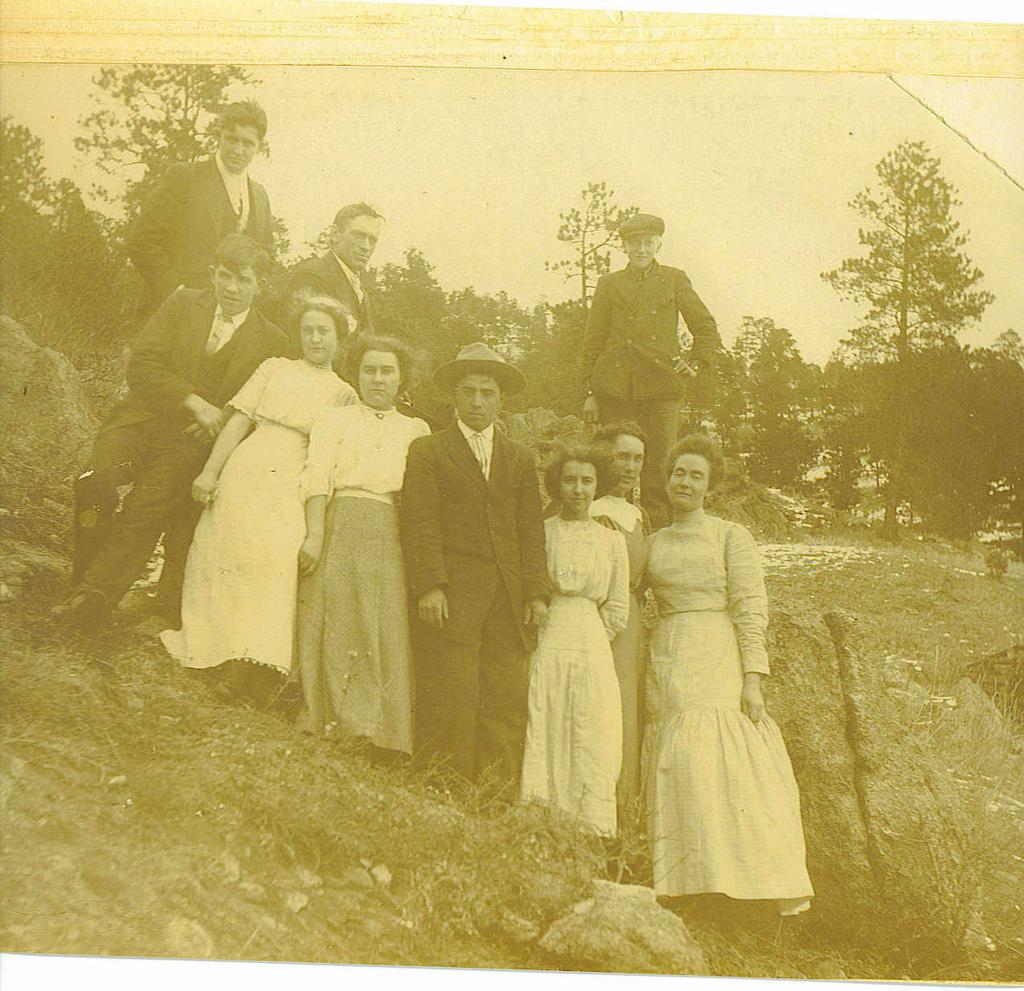face: (456, 374, 499, 429), (667, 453, 709, 509), (359, 349, 400, 406), (215, 261, 256, 314), (610, 432, 645, 488), (300, 310, 336, 363), (559, 459, 595, 512), (344, 214, 379, 267), (220, 123, 258, 170), (624, 233, 657, 267)
